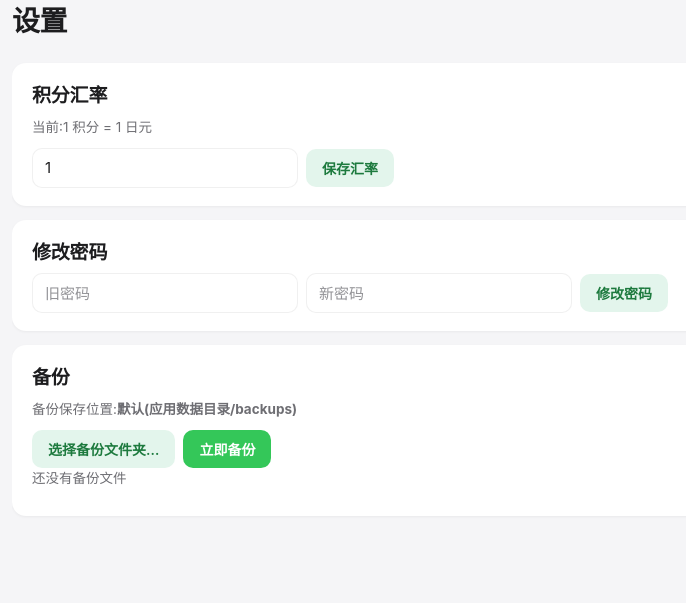
Test: 系统设置组件 › 修改密码提交 POST 并提示成功
In the password field labelled "旧密码": {"x": 165, "y": 293} [32,273,298,313], type "secret123"
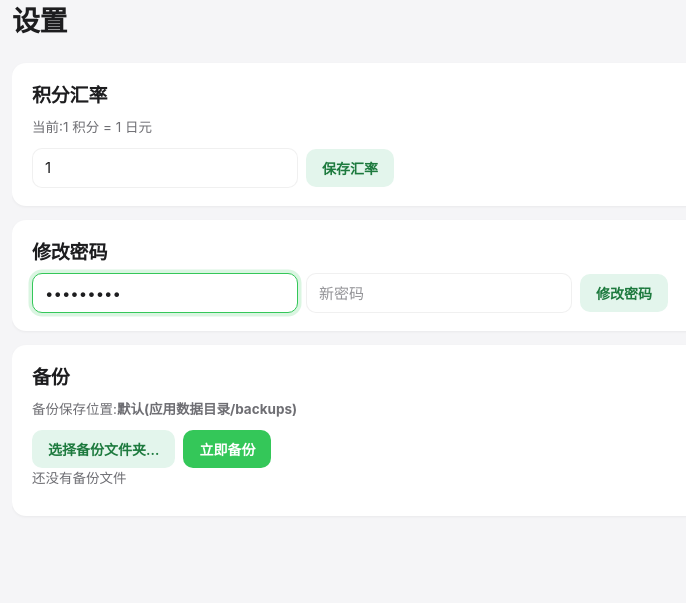
In the password field labelled "新密码": {"x": 439, "y": 293} [306,273,572,313], type "newpass456"
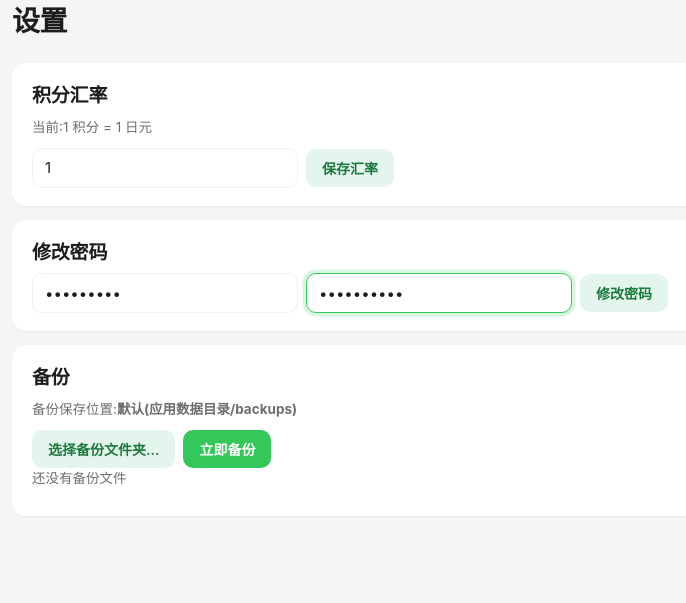
Click the button "修改密码": {"x": 624, "y": 293} [580,274,668,312]
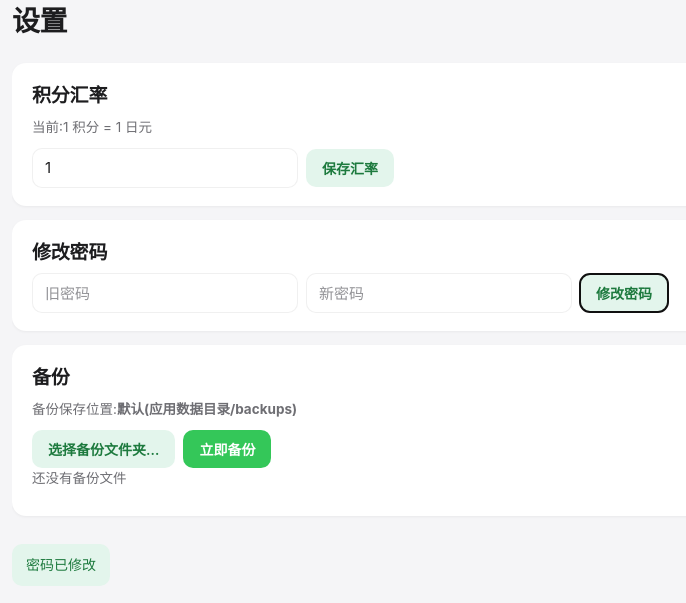
Expected: the text "密码已修改" is shown, [12,544,110,586]
